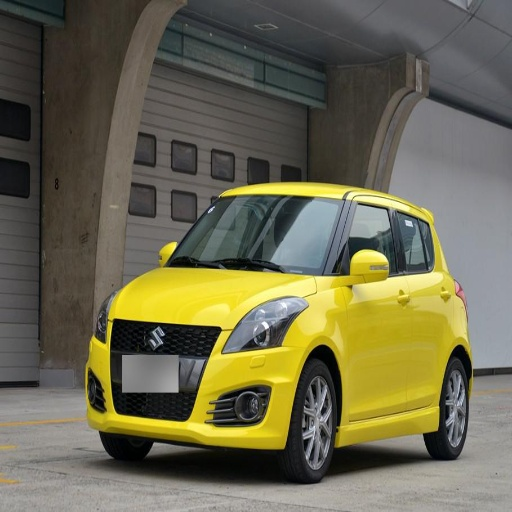front_bumper: (87, 319, 305, 447)
front_glass: (165, 198, 344, 273)
front_left_door: (336, 196, 409, 420)
